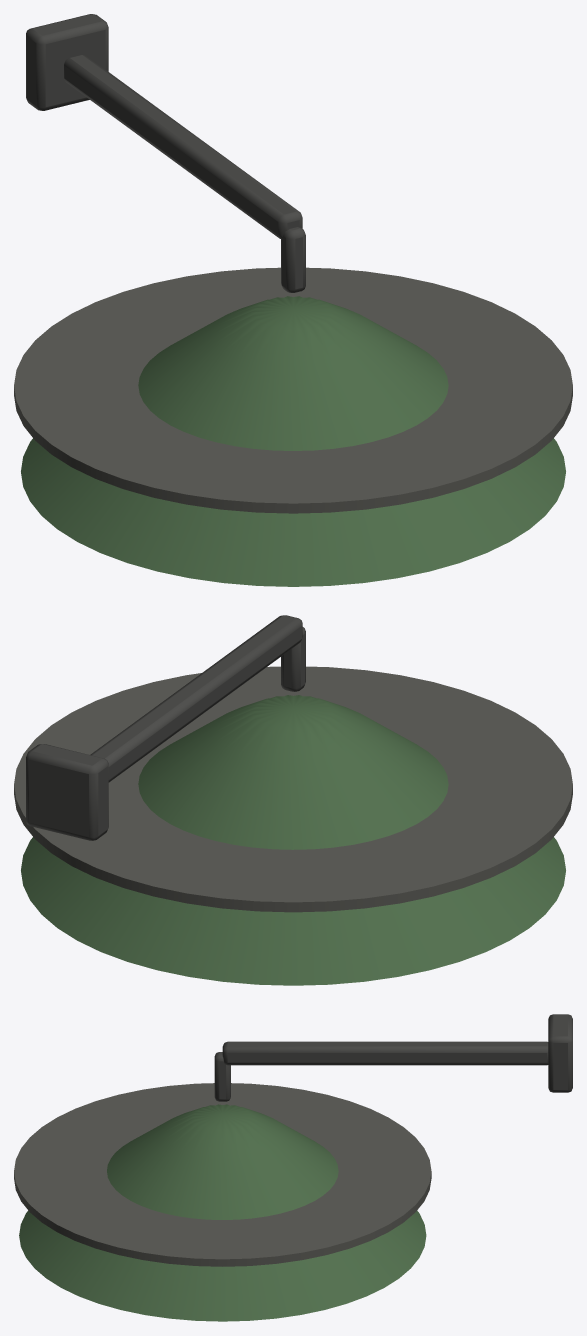
File: DenCong_ChaoTon.glb
3 renders of one model, top to bottom at view 1: azimuth 30°, elevation 25°; view 2: azimuth 150°, elevation 25°; view 3: azimuth 270°, elevation 25°, orthographic. The views are drawn at different scales.
Visible parts, largest first — view 1: DenCong_ChaoTon; view 2: DenCong_ChaoTon; view 3: DenCong_ChaoTon.
Boxes of the visible parts, left/top/right/bottom form: DenCong_ChaoTon: left=14, top=14, right=572, bottom=586; DenCong_ChaoTon: left=14, top=615, right=572, bottom=985; DenCong_ChaoTon: left=14, top=1014, right=572, bottom=1321.
Size of the model in its own units: 0.4053 by 0.225 by 0.5427.
